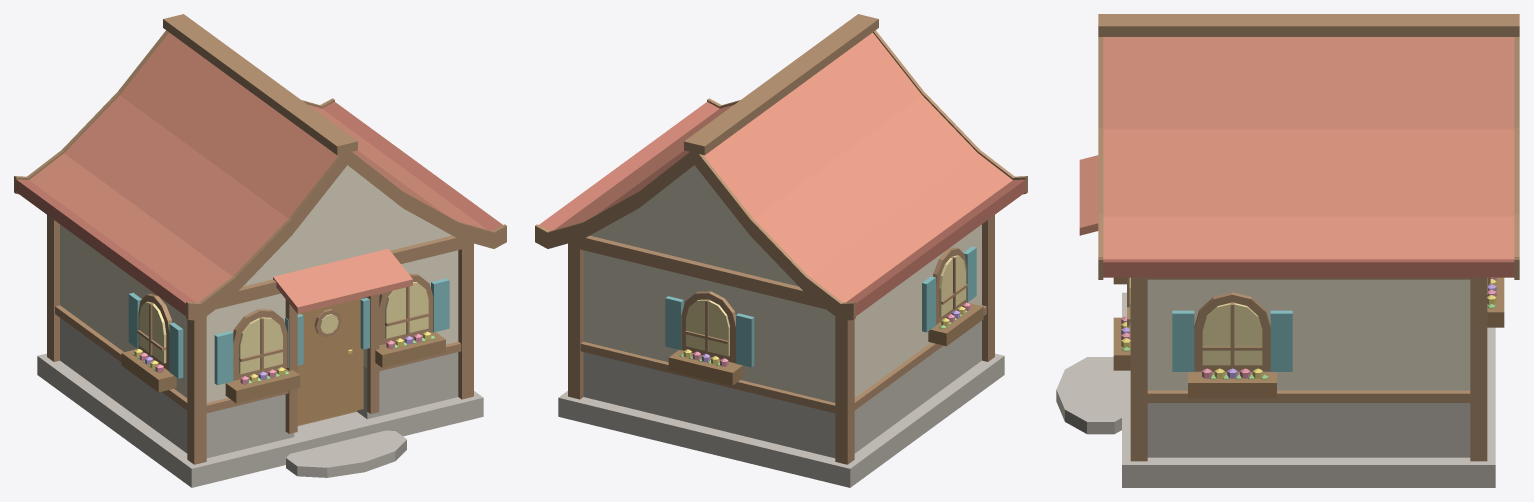
The model's file is cottage.glb.
3 views of the same model, side by side, from view 1: azimuth 30°, elevation 25°; view 2: azimuth 150°, elevation 25°; view 3: azimuth 270°, elevation 25° (orthographic). The views are drawn at different scales.
Visible parts, largest first — view 1: Player; view 2: Player; view 3: Player.
Part boxes in pixels (bbox=[...]): Player: bbox=[14, 14, 506, 487]; Player: bbox=[535, 14, 1027, 487]; Player: bbox=[1056, 14, 1519, 487].
Size of the model in its own units: 5.24 by 4.96 by 5.45.
